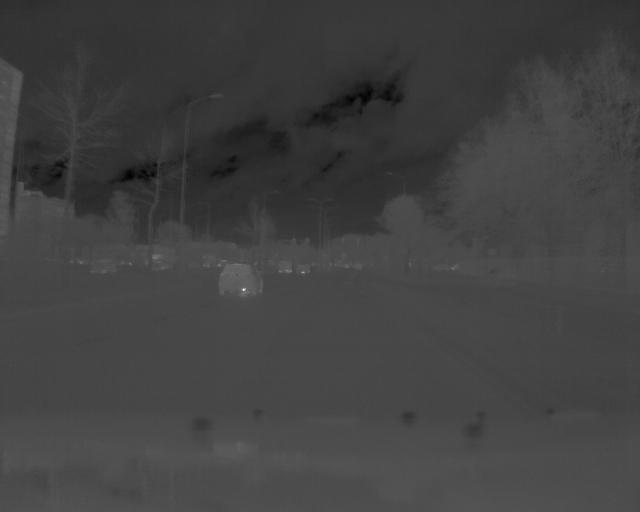car: (216, 262, 267, 298)
